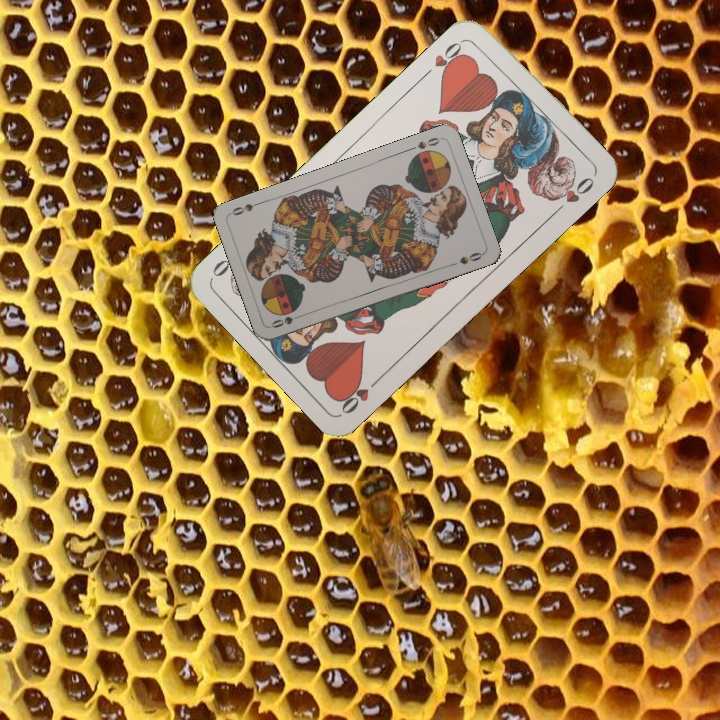HO: (335, 371, 385, 417), (419, 35, 469, 80)
SO: (267, 310, 307, 331), (404, 133, 444, 153)
